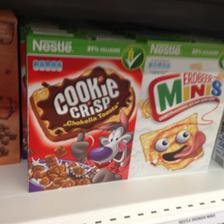Cerealien: (24, 35, 148, 193), (140, 39, 224, 179)
